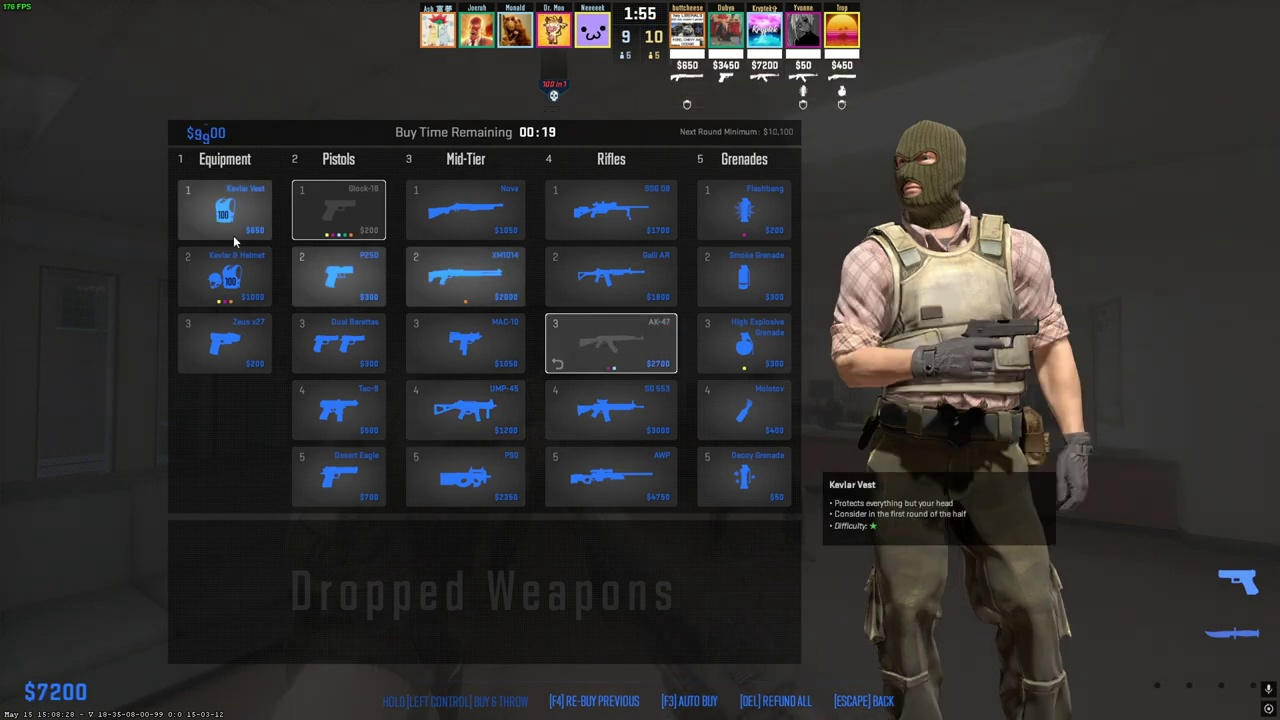Terrorist: (847, 121, 1073, 720)
